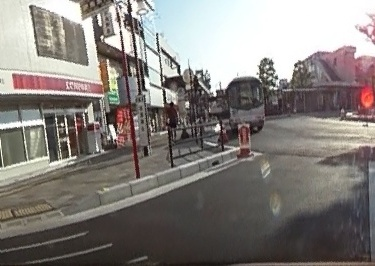person: (165, 100, 177, 140)
